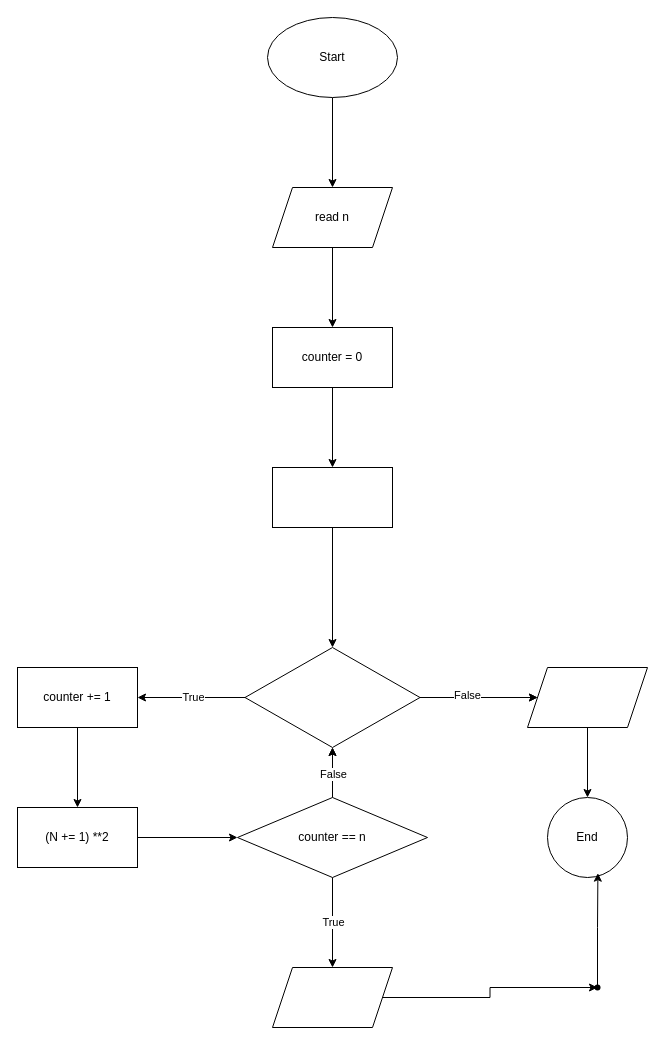
This 665x1045 diagram has some shape labels left out. The centre of each missing label's shape, as x and y in pixels:
N = 0: (332,497)
n > 0 AND n == intero: (332,697)
write Errore: (587,697)
write N: (332,997)
